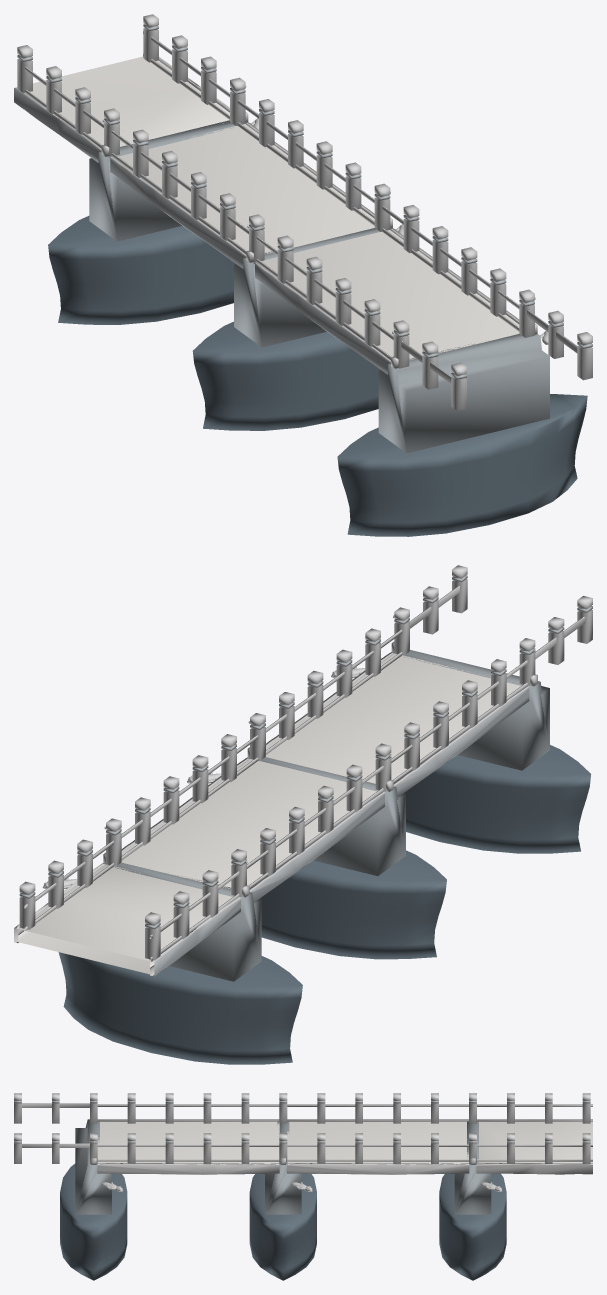
The model's file is luoyang.glb.
The picture shows the model from 3 angles, top to bottom: view 1: azimuth 30°, elevation 25°; view 2: azimuth 150°, elevation 25°; view 3: azimuth 270°, elevation 25°; orthographic projection. The views are drawn at different scales.
Visible parts, largest first — view 1: Circle81, Circle80, Circle82, Rectangle84, Box6133, Box6099, Box6116, Rectangle85, Rectangle83, Line637, Line641, Line639 (+30 smaller); view 2: Circle82, Circle80, Circle81, Box6099, Box6133, Box6116, Rectangle84, Rectangle85, Rectangle83, Line641, Line637, Line639 (+32 smaller); view 3: Box6133, Box6099, Circle81, Circle82, Circle80, Box6116, Rectangle84, Line636, Line640, Rectangle85, Rectangle83, Line638 (+27 smaller).
Part boxes in pixels (x1,y1,x2,y2): Circle81: [337, 394, 587, 536]; Circle80: [192, 321, 380, 430]; Circle82: [48, 216, 235, 324]; Rectangle84: [378, 334, 549, 453]; Box6133: [261, 230, 519, 360]; Box6099: [118, 124, 374, 253]; Box6116: [30, 56, 229, 146]; Rectangle85: [89, 120, 248, 241]; Rectangle83: [234, 228, 393, 347]; Line637: [109, 156, 246, 268]; Line641: [253, 262, 390, 374]; Line639: [14, 87, 101, 162]; Circle82: [58, 952, 302, 1064]; Circle80: [260, 850, 446, 959]; Circle81: [404, 745, 591, 853]; Box6099: [121, 759, 376, 888]; Box6133: [266, 653, 520, 783]; Box6116: [18, 864, 232, 974]; Rectangle84: [391, 650, 549, 770]; Rectangle85: [102, 862, 261, 981]; Rectangle83: [247, 757, 405, 876]; Line641: [393, 686, 530, 796]; Line637: [249, 791, 385, 902]; Line639: [150, 897, 241, 976]; Box6133: [97, 1121, 279, 1163]; Box6099: [287, 1121, 468, 1163]; Circle81: [60, 1163, 127, 1280]; Circle82: [439, 1173, 506, 1280]; Circle80: [249, 1174, 316, 1280]; Box6116: [477, 1121, 592, 1163]; Rectangle84: [75, 1119, 111, 1214]; Line636: [286, 1163, 469, 1174]; Line640: [97, 1163, 279, 1174]; Rectangle85: [454, 1121, 491, 1214]; Rectangle83: [265, 1121, 301, 1214]; Line638: [476, 1163, 592, 1174].
Size of the model in its own units: 992 by 750 by 3035.
